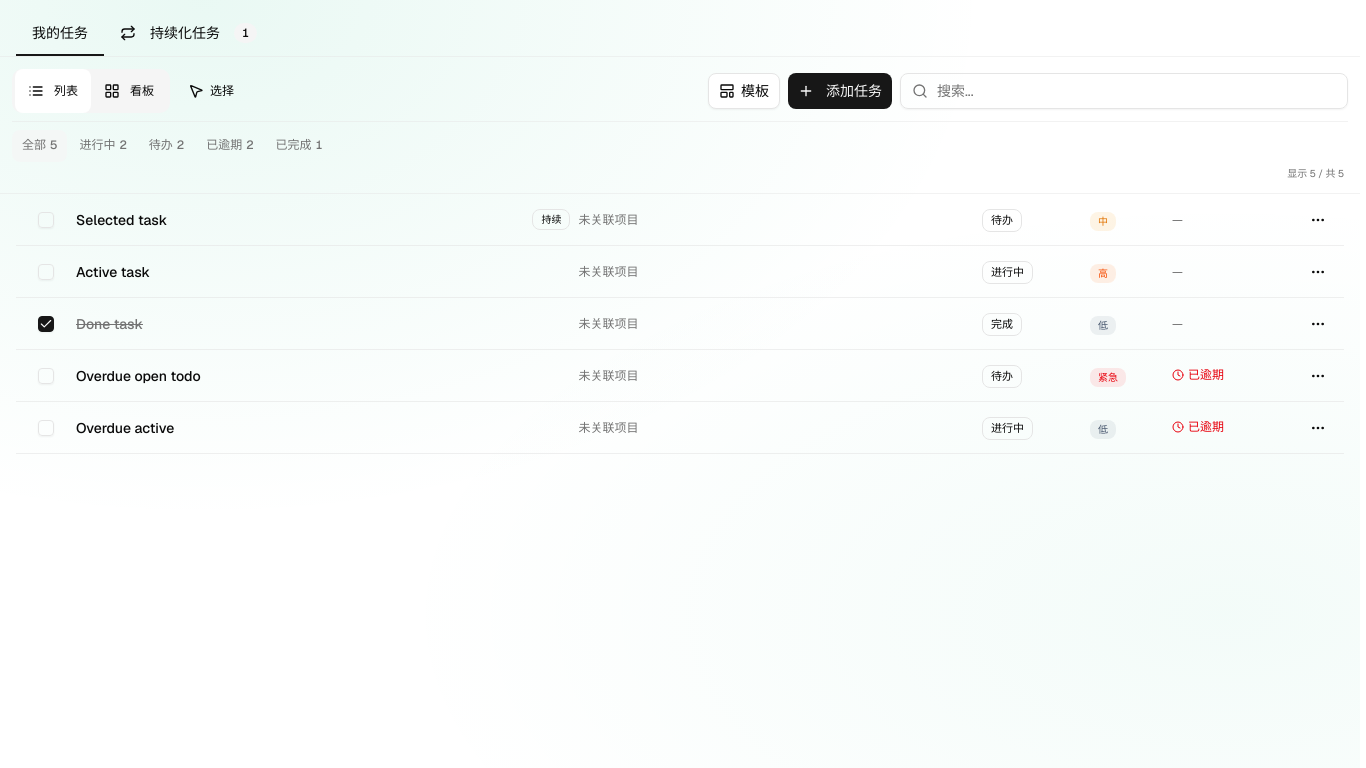
Test case: selected task detail integration: desktop task workspace › keeps overdue open tasks in status filters and applies search as an intersecting condition
The width and height of the screenshot is (1366, 768).
Step 1. Click the button "待办2" → click(166, 146), box [139,130,194,162]
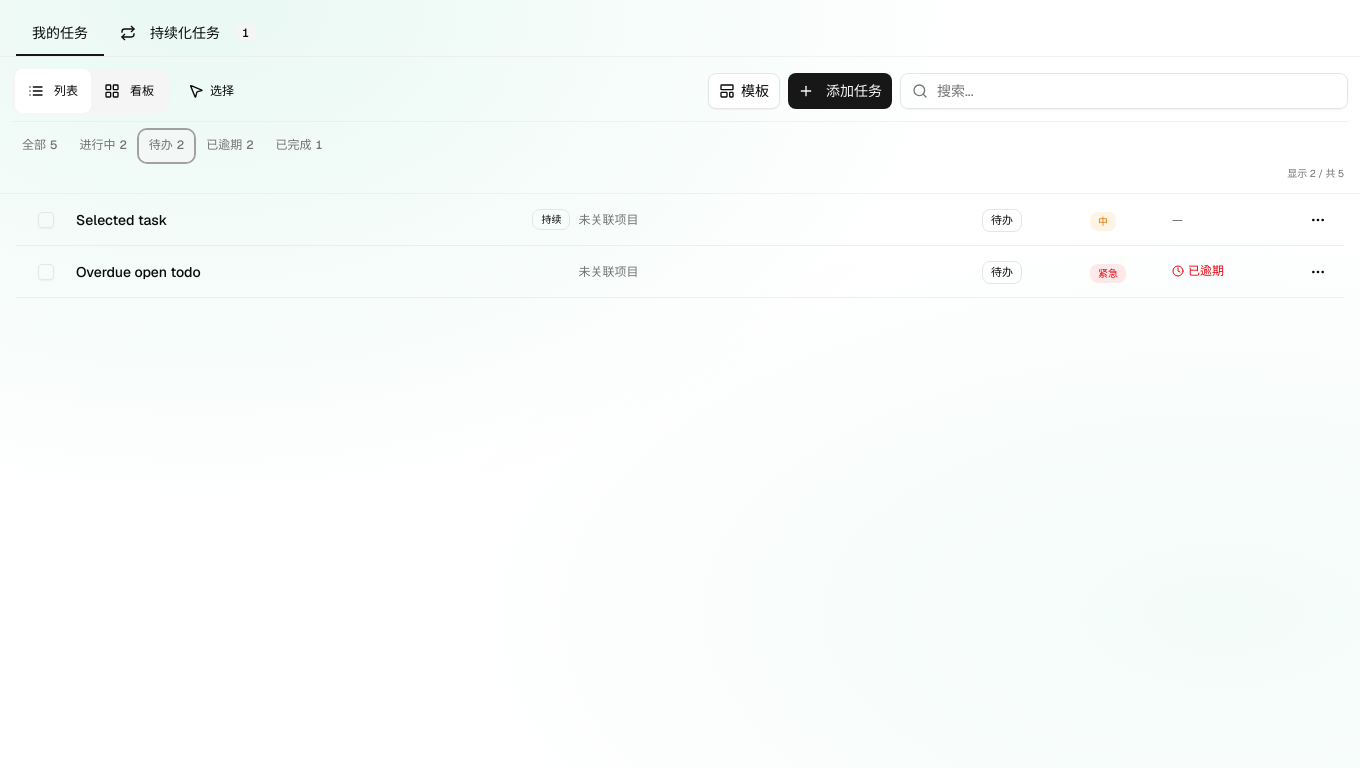
Check: the text "Selected task" is shown, box [76,210,167,228]
Check: the button "Overdue active" is gone
Step 2. Click the button "已逾期2" → click(230, 146), box [196,130,264,162]
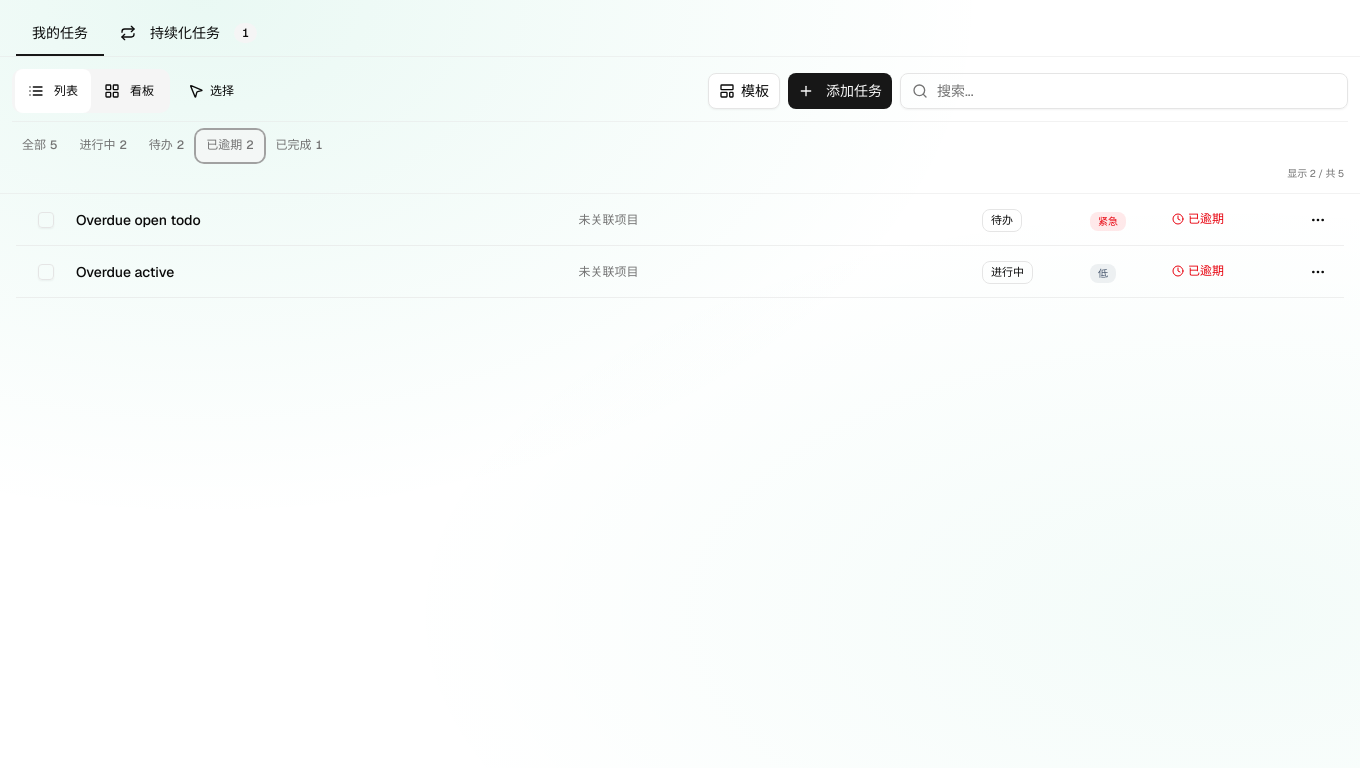
Check: the text "Overdue open todo" is shown, box [76,210,201,228]
Check: the text "Overdue active" is shown, box [76,262,174,280]
Step 3. Type "Overdue open todo" into the field named "搜索任务" → (1124, 91), box [900,73,1348,109]
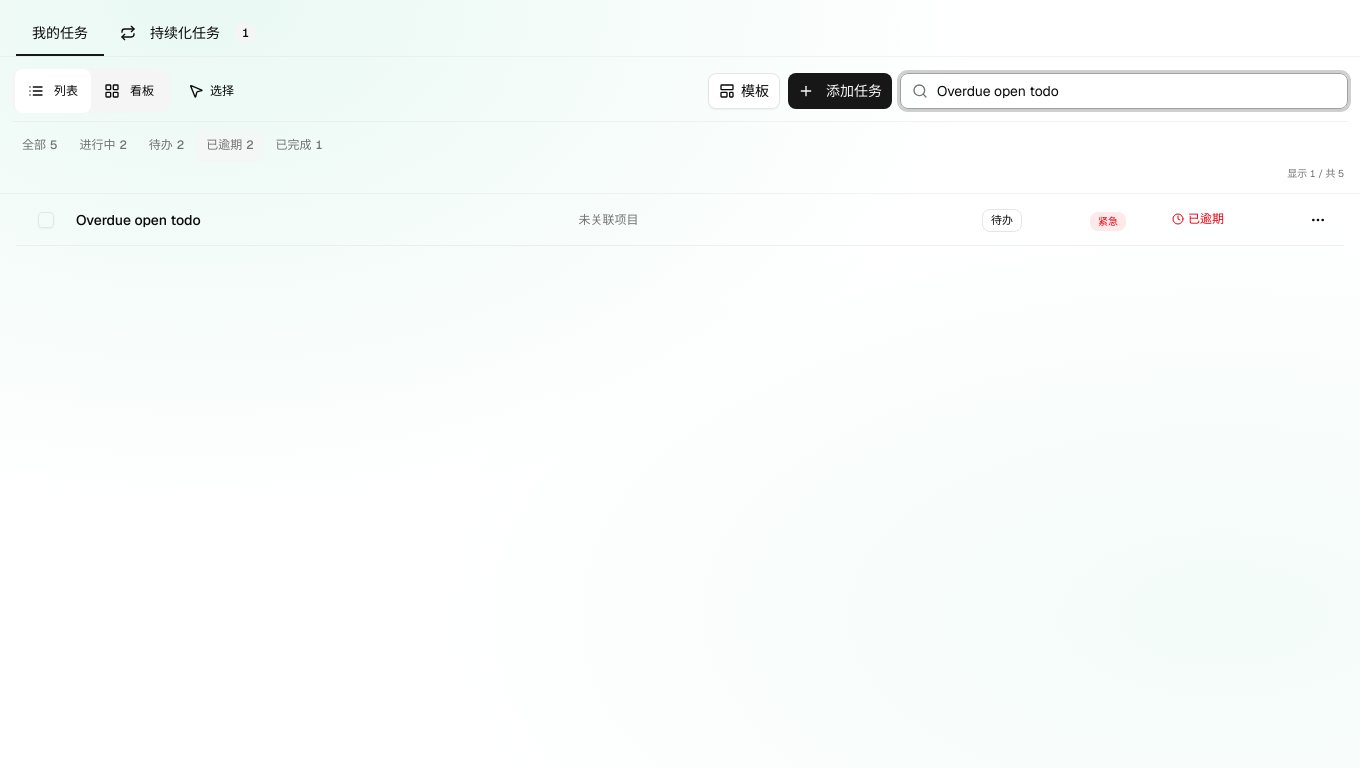
Check: the text "Overdue open todo" is shown, box [76,210,201,228]
Check: the button "Overdue active" is gone
Step 4. Replace the text in the field named "搜索任务" with "no matching task" → (1124, 91), box [900,73,1348,109]
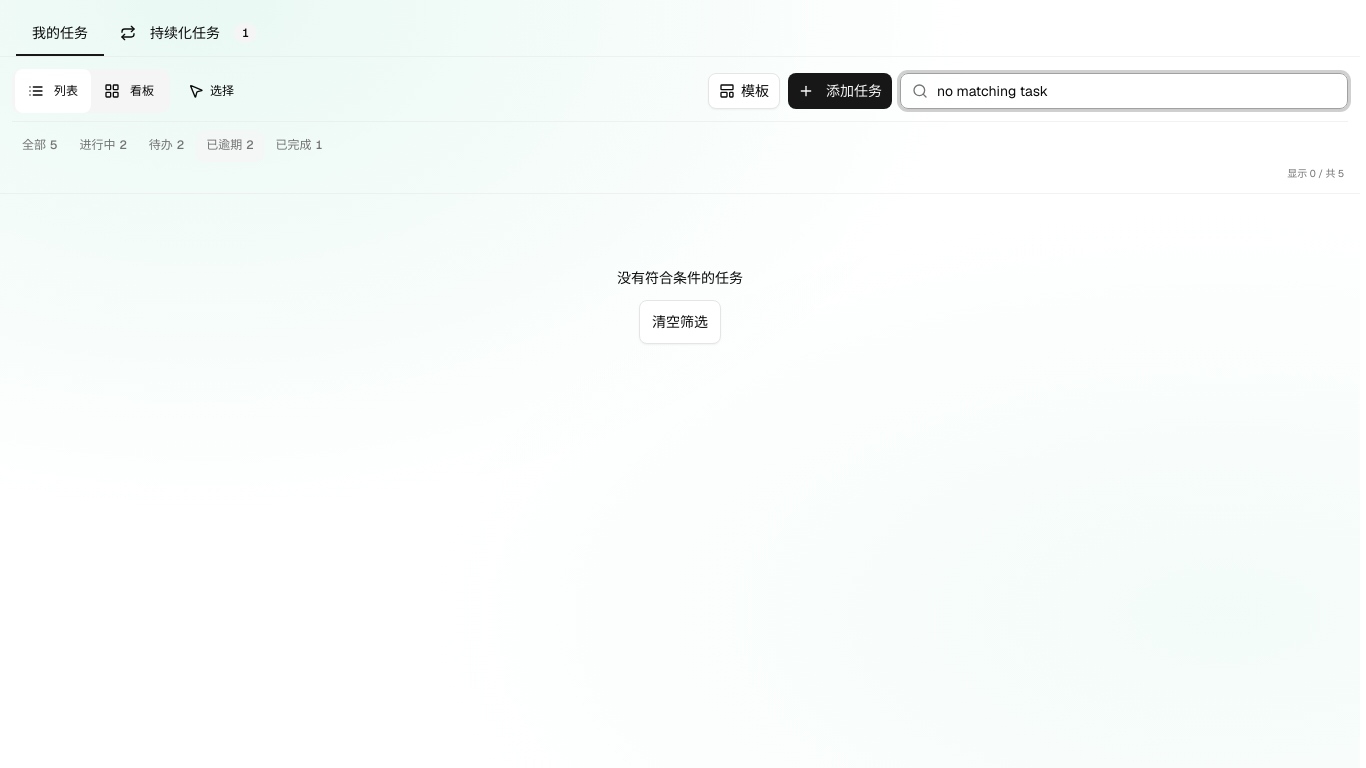
Check: the text "没有符合条件的任务" is shown, box [617,268,743,288]
Step 5. Click the button "清空筛选" → click(680, 322), box [639,300,721,344]
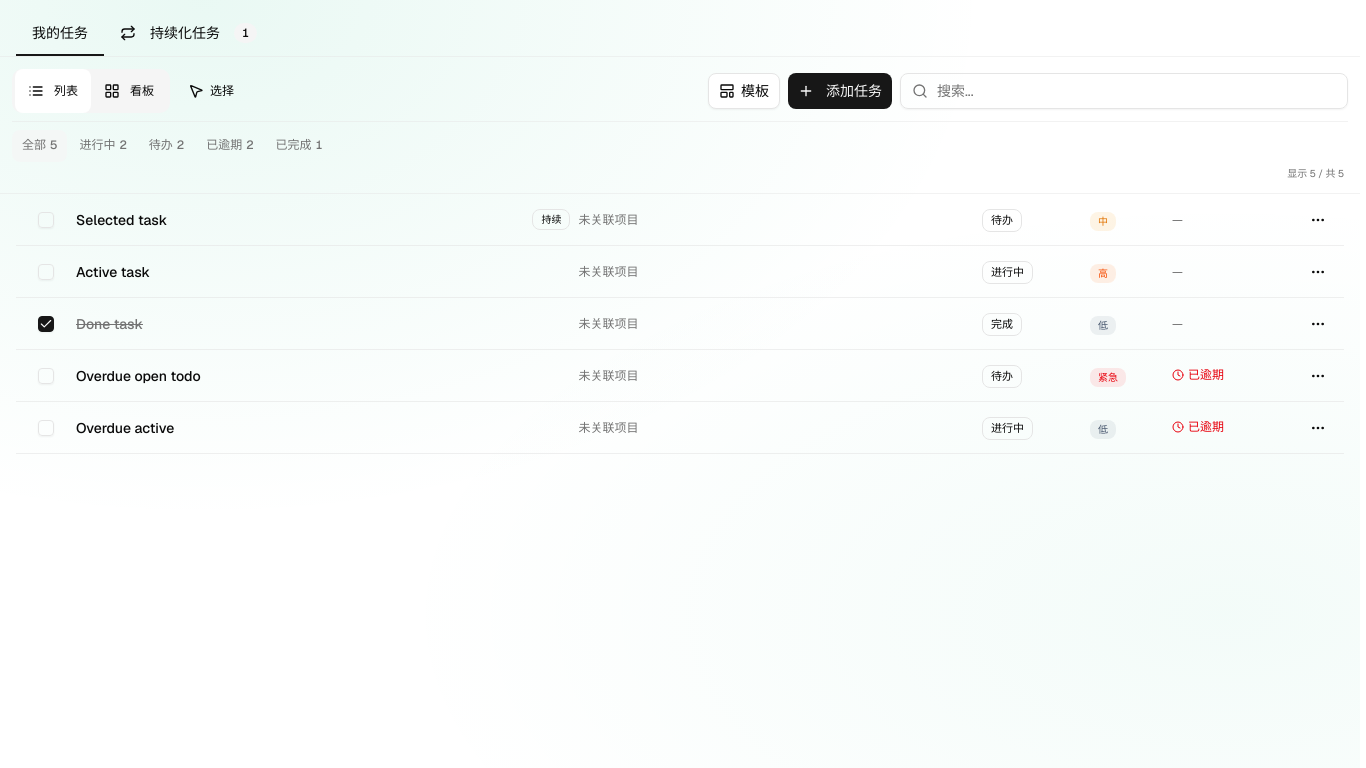
Check: the text "Selected task" is shown, box [76,210,167,228]
